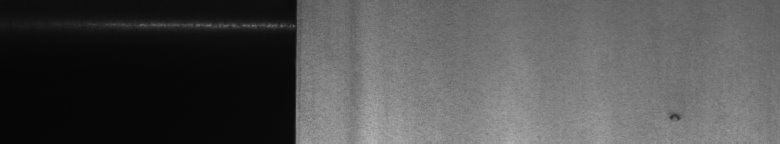fi: (664, 104, 682, 128)
